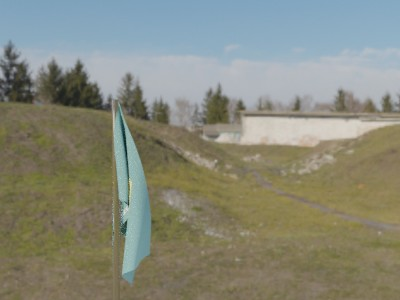Delaware flag: (109, 101, 162, 287)
